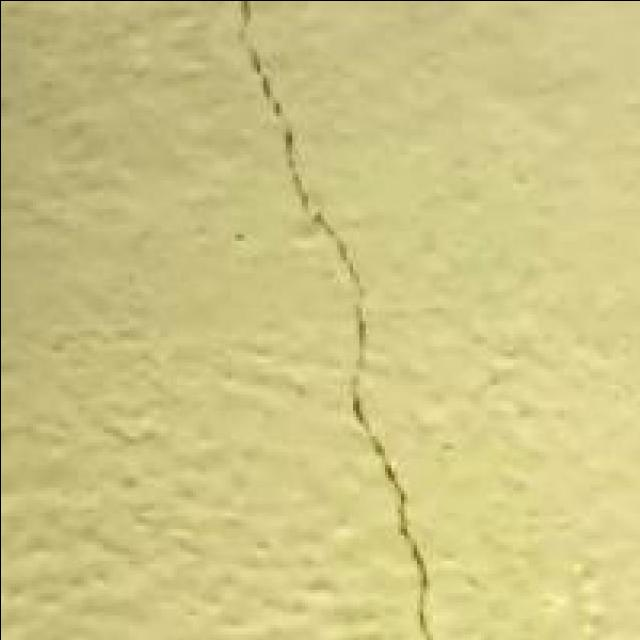SurfaceCrack: (208, 0, 450, 640)
